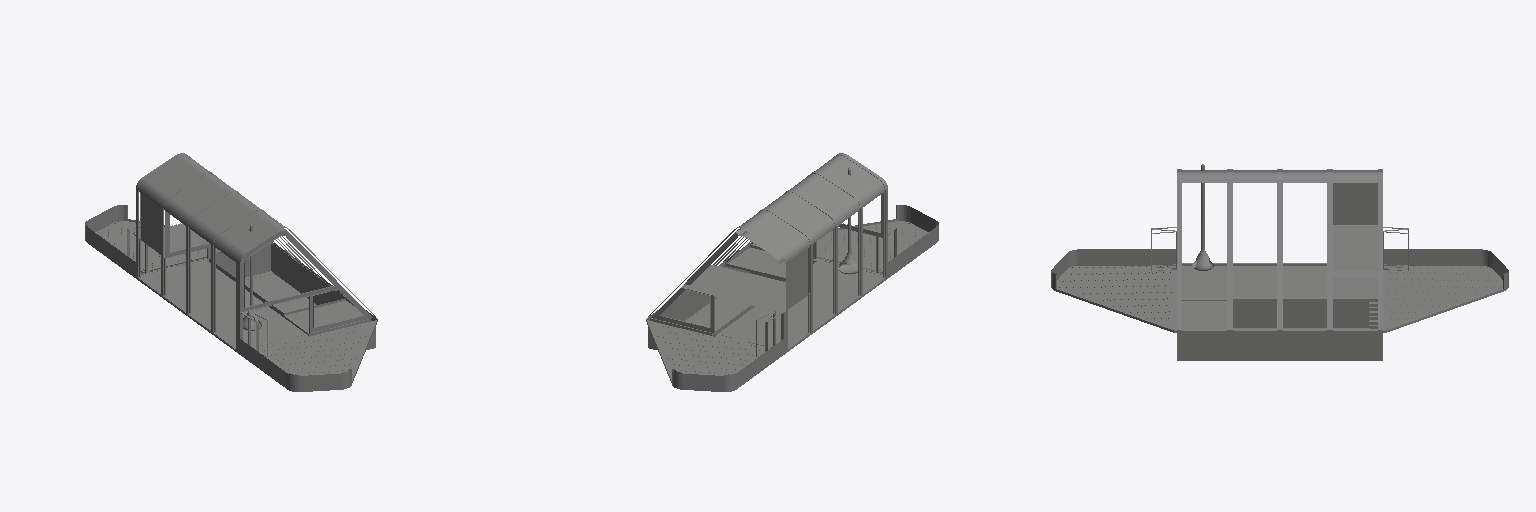
File: studioFraneOBJ.obj
The picture shows the model from 3 angles: view 1: azimuth 30°, elevation 25°; view 2: azimuth 150°, elevation 25°; view 3: azimuth 270°, elevation 25°; orthographic projection.
Visible parts, largest first — view 1: studio_studio_Iron_-_Cast; view 2: studio_studio_Iron_-_Cast; view 3: studio_studio_Iron_-_Cast.
Part boxes in pixels (left/top/right/bottom): studio_studio_Iron_-_Cast: left=85, top=153, right=377, bottom=391; studio_studio_Iron_-_Cast: left=646, top=153, right=938, bottom=391; studio_studio_Iron_-_Cast: left=1051, top=164, right=1508, bottom=360.
Size of the model in its own units: 9.45 by 9.34 by 27.16.